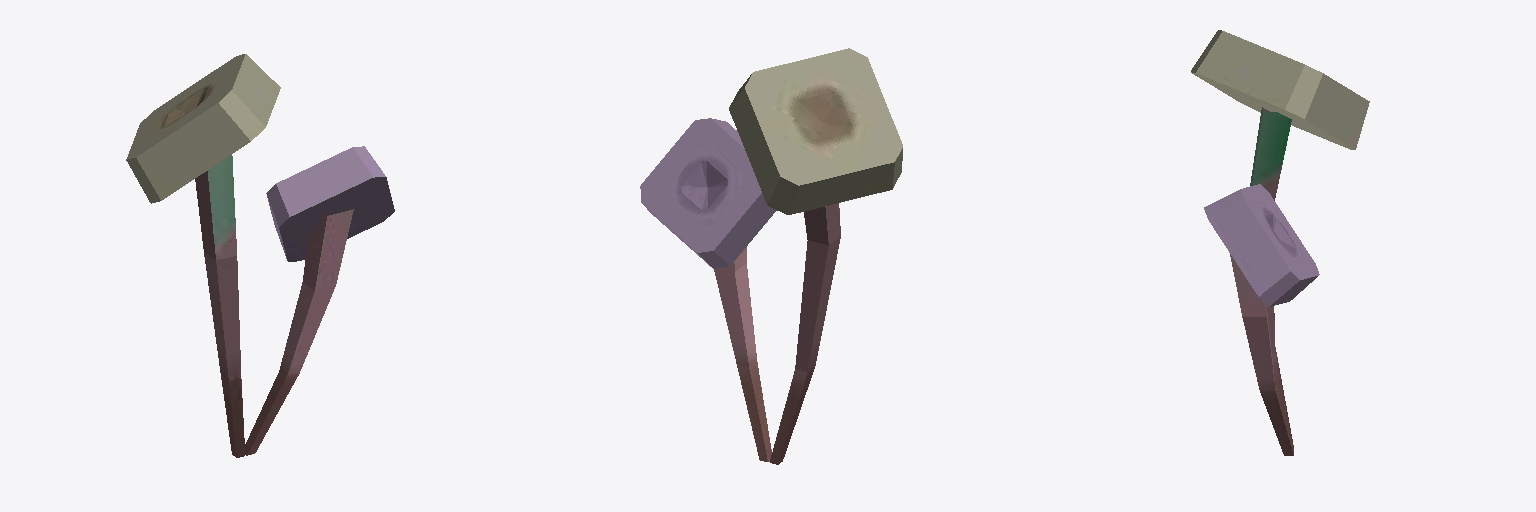
The picture shows the model from 3 angles: view 1: azimuth 30°, elevation 25°; view 2: azimuth 150°, elevation 25°; view 3: azimuth 270°, elevation 25°; orthographic projection.
Visible parts, largest first — view 1: FOL_Flower_MID_02; view 2: FOL_Flower_MID_02; view 3: FOL_Flower_MID_02.
Part boxes in pixels (x1,y1,x2,y2): FOL_Flower_MID_02: (126,54,394,457); FOL_Flower_MID_02: (640,48,902,464); FOL_Flower_MID_02: (1191,30,1369,455).
Bounding box in the file's own units: 0.2621 × 0.3895 × 0.1591.
Materials: 1 (1 with a texture image).